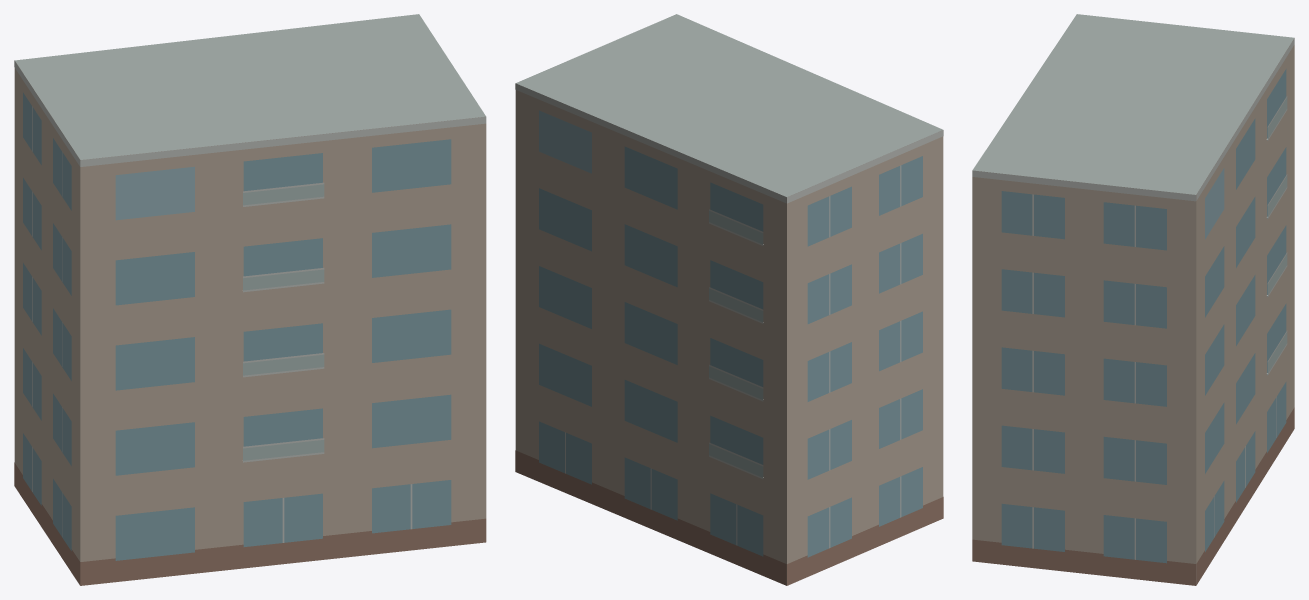
File: survey-upis-32875621.glb
3 renders of one model, left to right at view 1: azimuth 30°, elevation 25°; view 2: azimuth 150°, elevation 25°; view 3: azimuth 270°, elevation 25°, orthographic. The views are drawn at different scales.
Parts seen in each view (by area): view 1: survey-upis-32875621.tmp; view 2: survey-upis-32875621.tmp; view 3: survey-upis-32875621.tmp.
Part boxes in pixels (x1,y1,x2,y2): survey-upis-32875621.tmp: [14, 14, 486, 585]; survey-upis-32875621.tmp: [515, 14, 943, 585]; survey-upis-32875621.tmp: [972, 14, 1294, 585].
Size of the model in its own units: 14.7 by 14.8 by 11.07.
